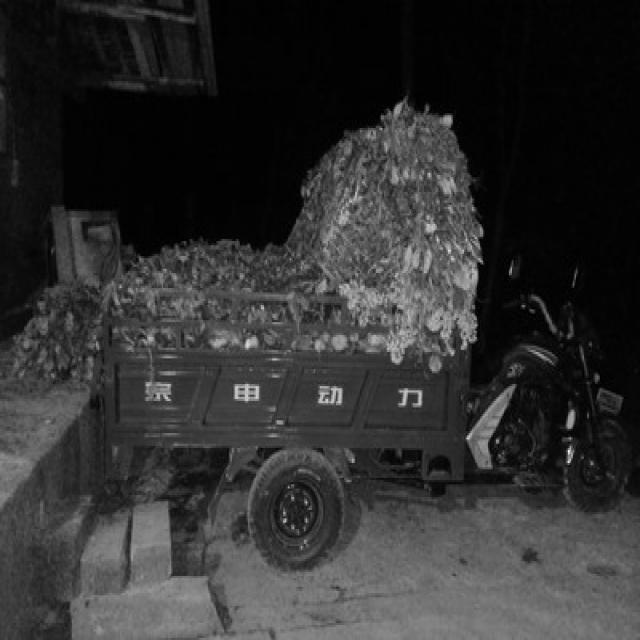tricycle: (98, 244, 630, 566)
